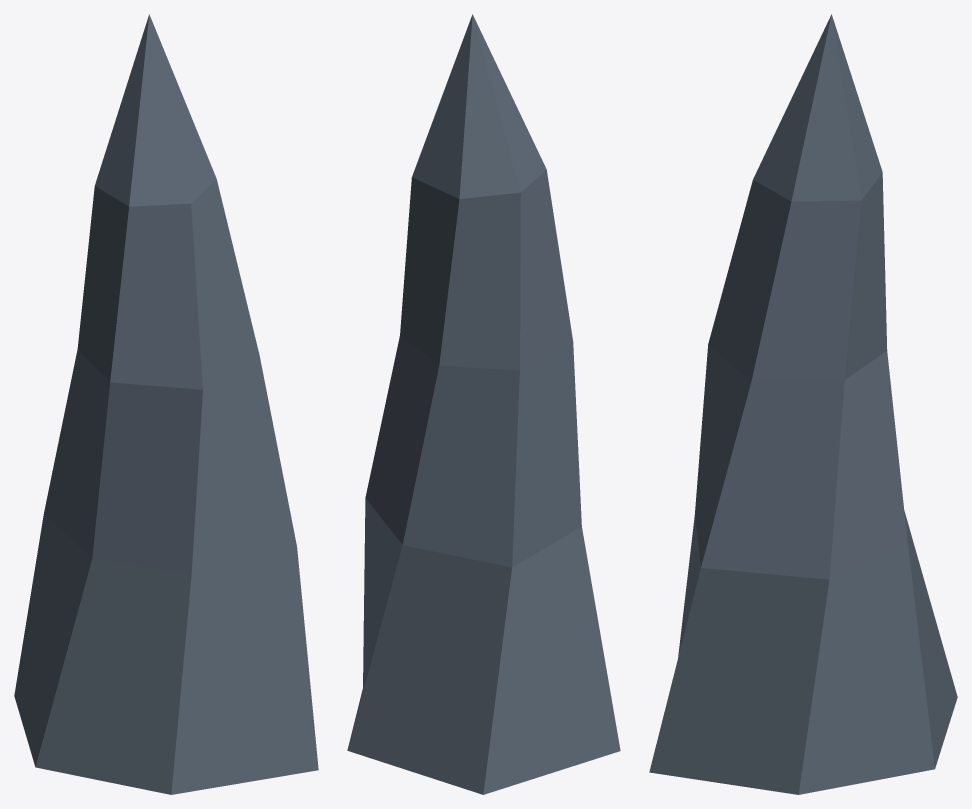
File: ROCK_Glacial_04_IceSpire.fbx
3 renders of one model, left to right at view 1: azimuth 30°, elevation 25°; view 2: azimuth 150°, elevation 25°; view 3: azimuth 270°, elevation 25°, orthographic.
Parts seen in each view (by area): view 1: ROCK_Glacial_04_IceSpire; view 2: ROCK_Glacial_04_IceSpire; view 3: ROCK_Glacial_04_IceSpire.
Boxes of the visible parts, bbox=[...] form: ROCK_Glacial_04_IceSpire: bbox=[14, 14, 318, 794]; ROCK_Glacial_04_IceSpire: bbox=[347, 14, 620, 794]; ROCK_Glacial_04_IceSpire: bbox=[649, 14, 957, 794].
Bounding box in the file's own units: 135 × 360 × 140.
